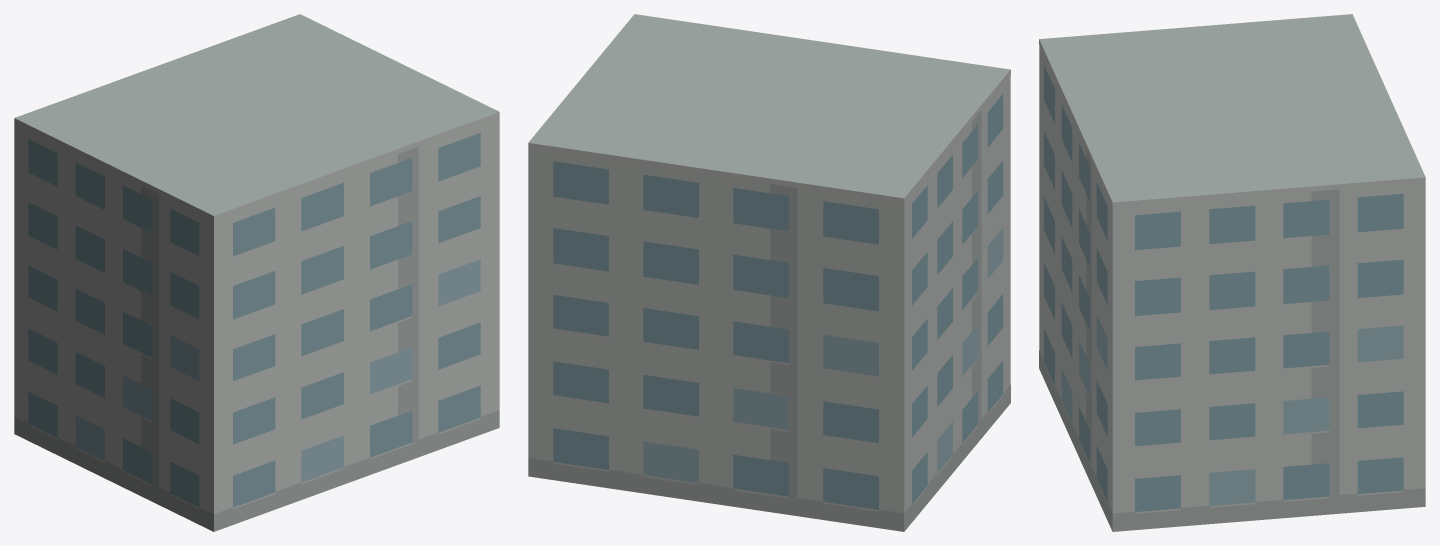
Rendered from residential-2ed96ff1-8370-43c9-9096-a8f26b6cf4c7.glb.
3 views of the same model, side by side, from view 1: azimuth 30°, elevation 25°; view 2: azimuth 150°, elevation 25°; view 3: azimuth 270°, elevation 25° (orthographic). The views are drawn at different scales.
Parts seen in each view (by area): view 1: residential-2ed96ff1-8370-43c9-9096-a8f26b6cf4c7.tmp; view 2: residential-2ed96ff1-8370-43c9-9096-a8f26b6cf4c7.tmp; view 3: residential-2ed96ff1-8370-43c9-9096-a8f26b6cf4c7.tmp.
Part boxes in pixels (left/top/right/bottom): residential-2ed96ff1-8370-43c9-9096-a8f26b6cf4c7.tmp: left=14, top=14, right=499, bottom=531; residential-2ed96ff1-8370-43c9-9096-a8f26b6cf4c7.tmp: left=528, top=14, right=1010, bottom=531; residential-2ed96ff1-8370-43c9-9096-a8f26b6cf4c7.tmp: left=1039, top=14, right=1425, bottom=531.
Size of the model in its own units: 18.72 by 15.25 by 16.23.
